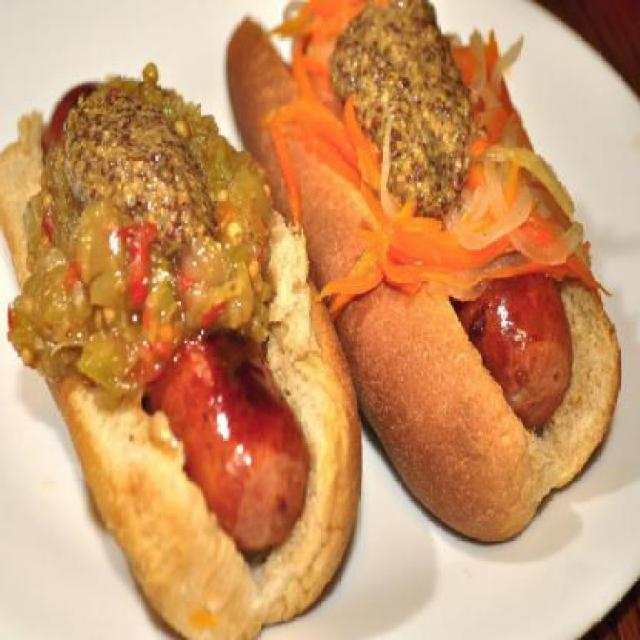Hot dog: (224, 0, 626, 549), (0, 66, 363, 640)
